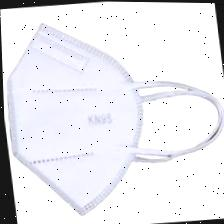mask: (0, 8, 224, 224)
